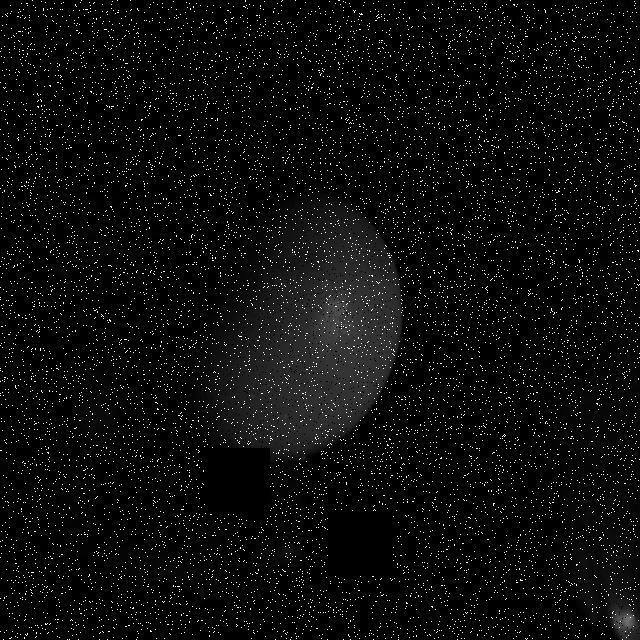egg: (160, 177, 409, 473)
